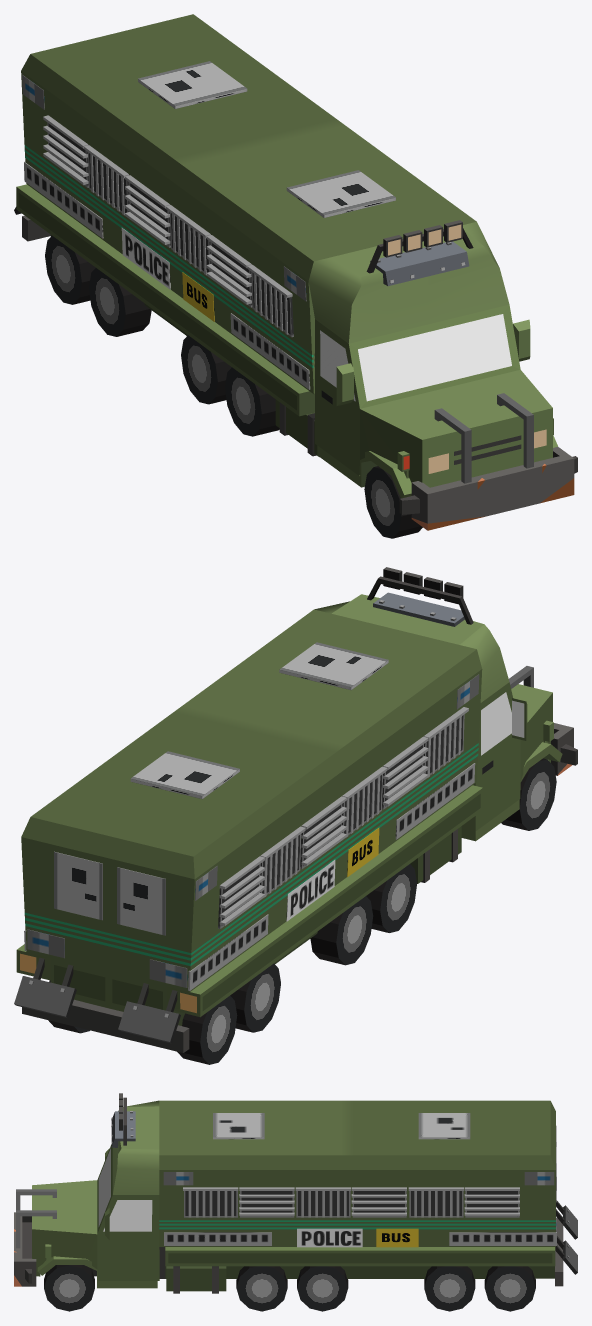
File: SA_Jail_Robbers_Transport.fbx
3 renders of one model, top to bottom at view 1: azimuth 30°, elevation 25°; view 2: azimuth 150°, elevation 25°; view 3: azimuth 270°, elevation 25°, orthographic. The views are drawn at different scales.
Parts seen in each view (by area): view 1: Prison_Criminal_Transport, SA_Veh_ArmytruckTanker_Wheel_RR4, SA_Veh_ArmytruckTanker_Wheel_RR2, SA_Veh_ArmytruckTanker_Wheel_FR, SA_Veh_ArmytruckTanker_Wheel_RR3, SA_Veh_ArmytruckTanker_Wheel_RR1; view 2: Prison_Criminal_Transport, SA_Veh_ArmytruckTanker_Wheel_RR1, SA_Veh_ArmytruckTanker_Wheel_RR3, SA_Veh_ArmytruckTanker_Wheel_FR, SA_Veh_ArmytruckTanker_Wheel_RR2, SA_Veh_ArmytruckTanker_Wheel_RR4; view 3: Prison_Criminal_Transport, SA_Veh_ArmytruckTanker_Wheel_FL, SA_Veh_ArmytruckTanker_Wheel_RL4, SA_Veh_ArmytruckTanker_Wheel_RL2, SA_Veh_ArmytruckTanker_Wheel_RL3, SA_Veh_ArmytruckTanker_Wheel_RL1.
Boxes of the visible parts, <box> form: Prison_Criminal_Transport: <box>14,14,577,530</box>; SA_Veh_ArmytruckTanker_Wheel_RR4: <box>89,268,151,336</box>; SA_Veh_ArmytruckTanker_Wheel_RR2: <box>225,367,279,436</box>; SA_Veh_ArmytruckTanker_Wheel_FR: <box>364,466,422,538</box>; SA_Veh_ArmytruckTanker_Wheel_RR3: <box>45,235,95,304</box>; SA_Veh_ArmytruckTanker_Wheel_RR1: <box>181,335,231,404</box>; Prison_Criminal_Transport: <box>14,567,577,1052</box>; SA_Veh_ArmytruckTanker_Wheel_RR1: <box>310,896,373,965</box>; SA_Veh_ArmytruckTanker_Wheel_RR3: <box>177,996,237,1064</box>; SA_Veh_ArmytruckTanker_Wheel_FR: <box>501,758,556,830</box>; SA_Veh_ArmytruckTanker_Wheel_RR2: <box>366,864,416,932</box>; SA_Veh_ArmytruckTanker_Wheel_RR4: <box>230,963,280,1032</box>; Prison_Criminal_Transport: <box>14,1093,577,1293</box>; SA_Veh_ArmytruckTanker_Wheel_FL: <box>44,1265,94,1311</box>; SA_Veh_ArmytruckTanker_Wheel_RL4: <box>424,1266,475,1311</box>; SA_Veh_ArmytruckTanker_Wheel_RL2: <box>236,1266,287,1311</box>; SA_Veh_ArmytruckTanker_Wheel_RL3: <box>484,1266,535,1311</box>; SA_Veh_ArmytruckTanker_Wheel_RL1: <box>297,1266,348,1311</box>.
Size of the model in its own units: 4.65 by 5.97 by 17.04.
Materials: 1 (1 with a texture image).
